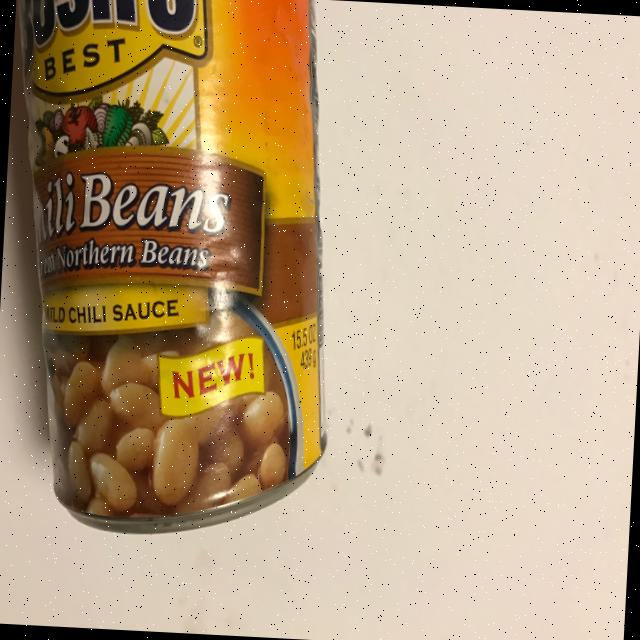metal: (0, 0, 350, 544)
